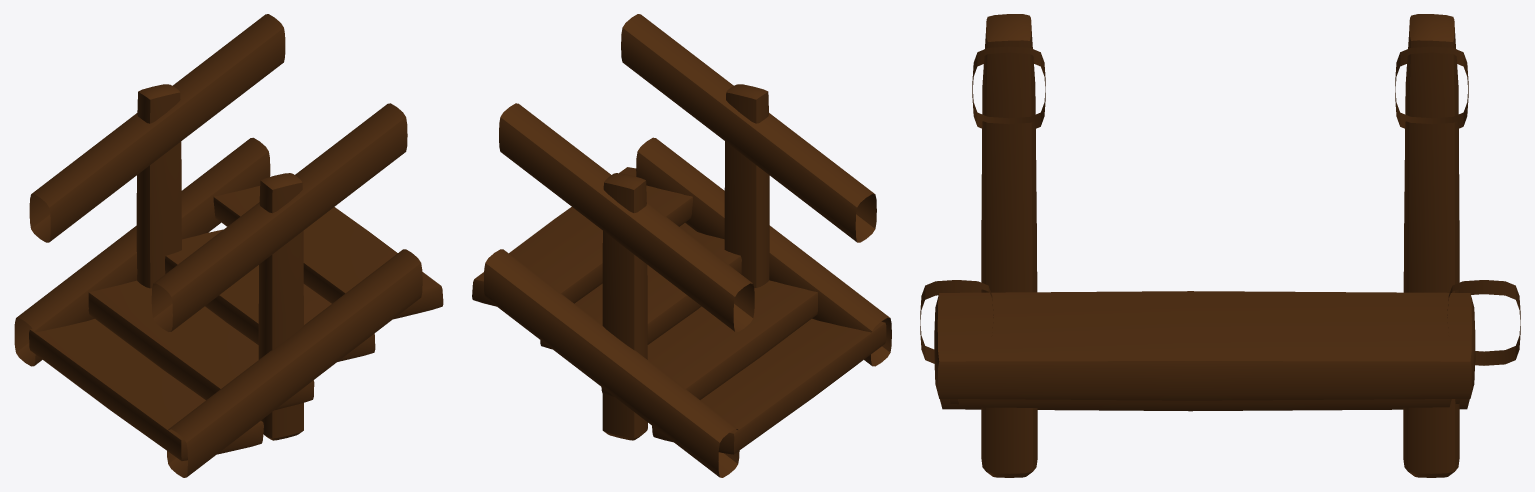
The model's file is Stairs_Modular_Middle.obj.
3 views of the same model, side by side, from view 1: azimuth 30°, elevation 25°; view 2: azimuth 150°, elevation 25°; view 3: azimuth 270°, elevation 25° (orthographic). The views are drawn at different scales.
Visible parts, largest first — view 1: Stairs_Modular_Middle_Cube.059; view 2: Stairs_Modular_Middle_Cube.059; view 3: Stairs_Modular_Middle_Cube.059.
Part boxes in pixels (x1=…): Stairs_Modular_Middle_Cube.059: x1=14, y1=14, x2=443, y2=477; Stairs_Modular_Middle_Cube.059: x1=472, y1=14, x2=891, y2=477; Stairs_Modular_Middle_Cube.059: x1=920, y1=14, x2=1520, y2=477.
Size of the model in its own units: 2.26 by 2.43 by 2.56.
